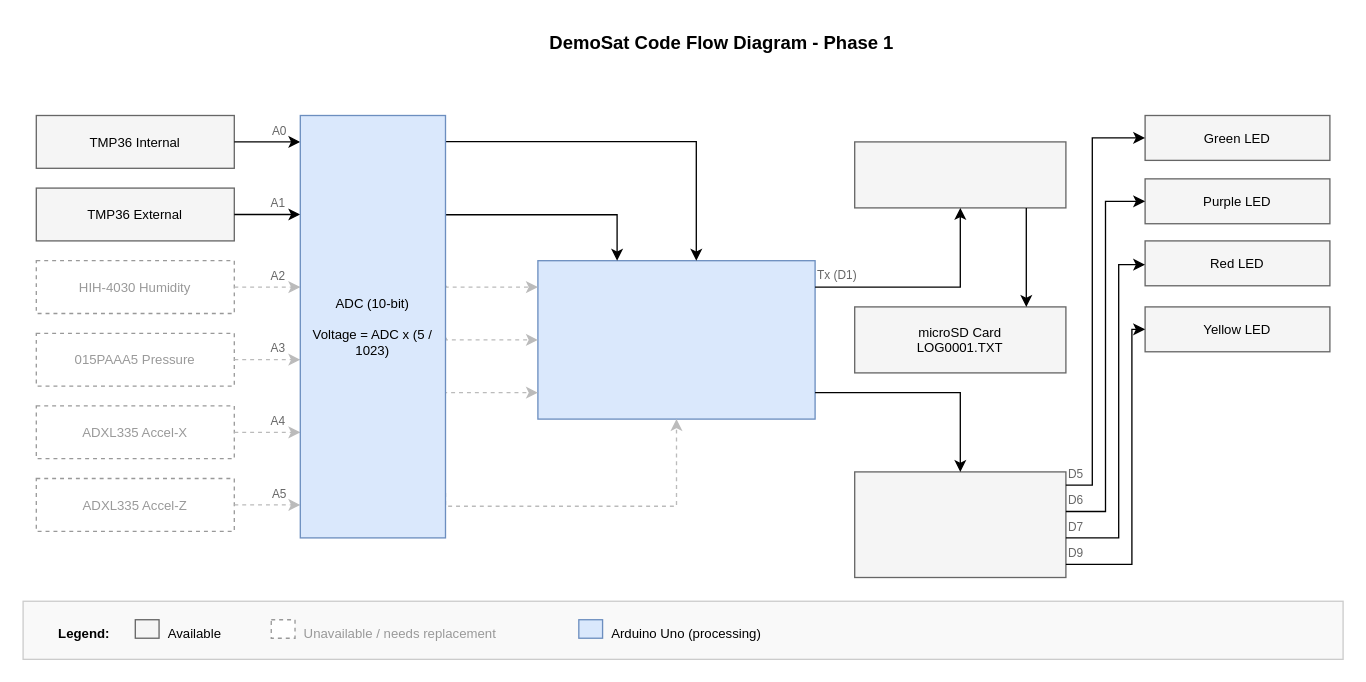
The diagram is 1366 pixels wide and 682 high, and some of its shapes have lost their labels. Each missing label, with the box of its shape:
Arduino Uno (ATmega328P) Unit Conversion: (537, 259, 815, 419)
SparkFun OpenLog Serial.print(): (853, 141, 1066, 208)
Threshold Check (if statements): (853, 471, 1066, 578)
